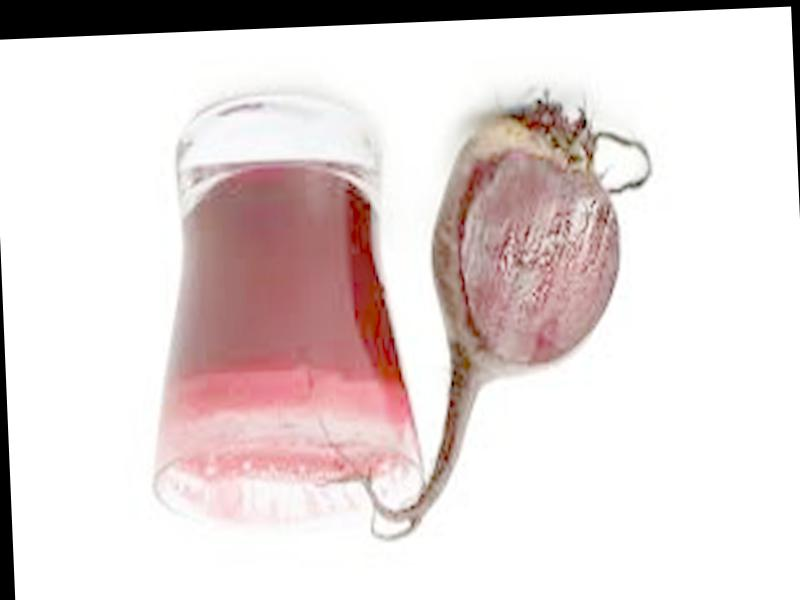Beet: (312, 90, 665, 543)
